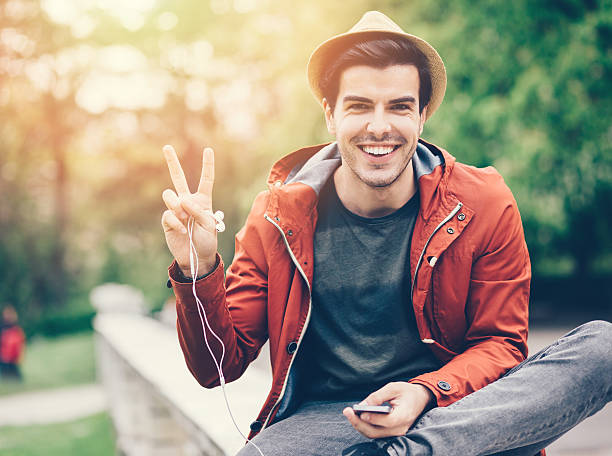peacesign: (158, 140, 221, 217)
